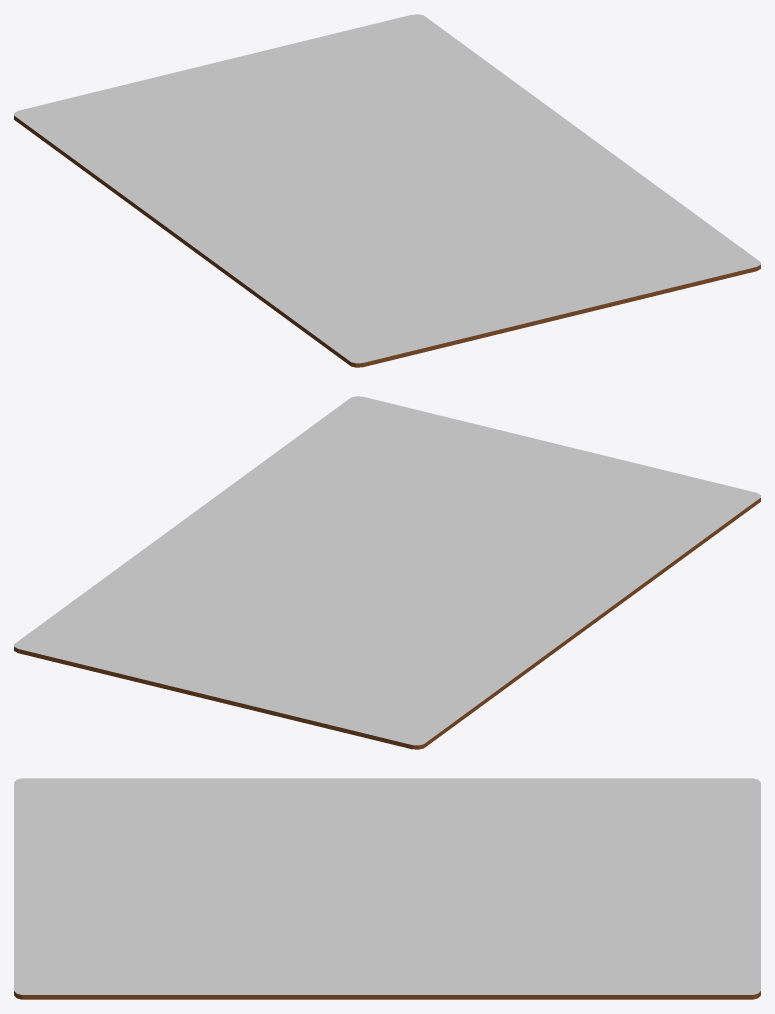
The model's file is card.dae.
3 renders of one model, top to bottom at view 1: azimuth 30°, elevation 25°; view 2: azimuth 150°, elevation 25°; view 3: azimuth 270°, elevation 25°, orthographic. The views are drawn at different scales.
Visible parts, largest first — view 1: card-nocol; view 2: card-nocol; view 3: card-nocol.
Part boxes in pixels (x1,y1,x2,y2): card-nocol: (14,14,760,367); card-nocol: (14,396,760,749); card-nocol: (14,778,760,999).
Size of the model in its own units: 0.9994 by 1.46 by 0.01.
